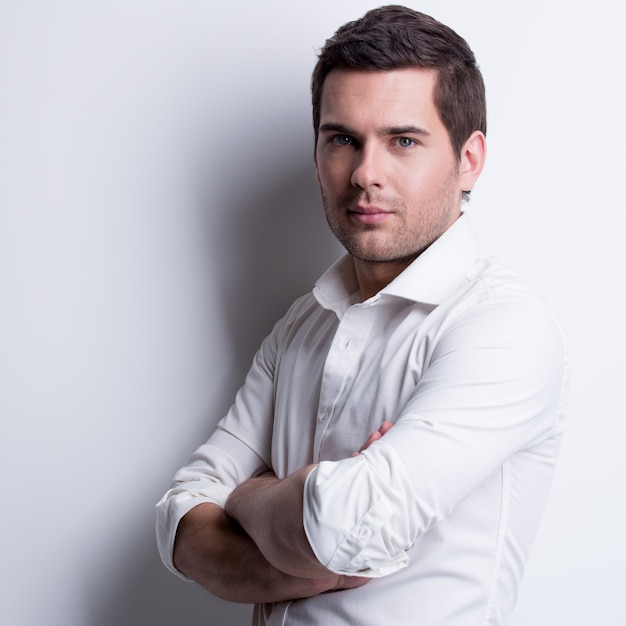young: (278, 17, 499, 282)
